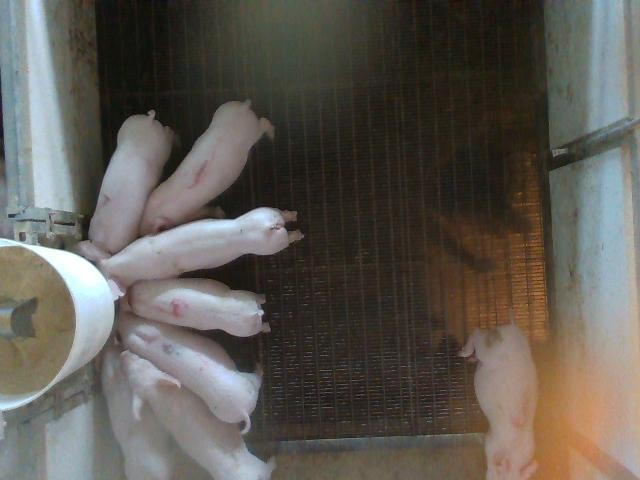pig-1: (139, 100, 274, 235)
pig-3: (460, 322, 538, 478)
pig-4: (120, 279, 270, 336)
